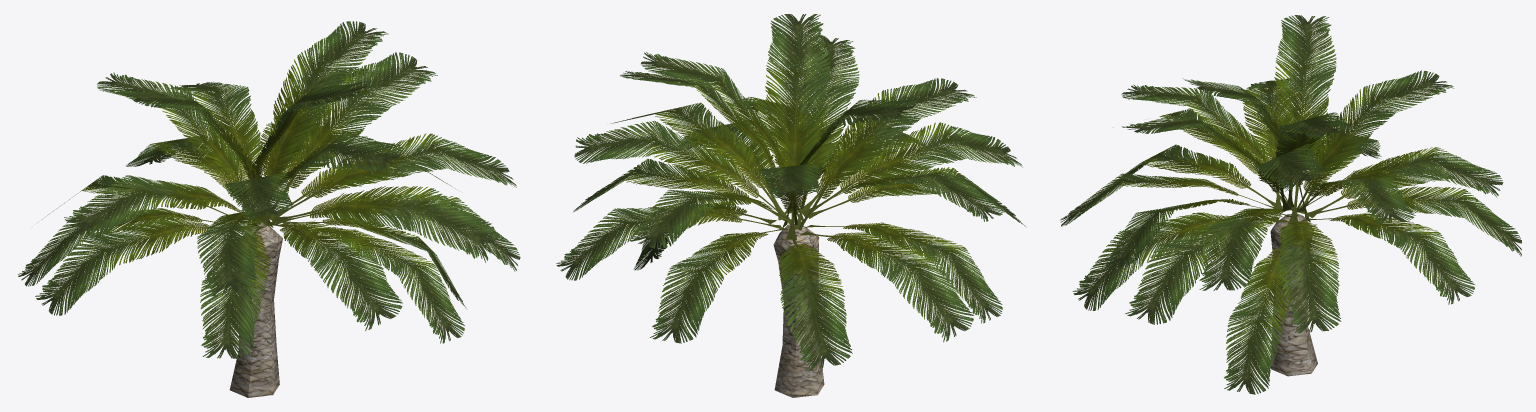
The picture shows the model from 3 angles, left to right: view 1: azimuth 30°, elevation 25°; view 2: azimuth 150°, elevation 25°; view 3: azimuth 270°, elevation 25°; orthographic projection. The views are drawn at different scales.
Parts seen in each view (by area): view 1: Mesh Object; view 2: Mesh Object; view 3: Mesh Object.
Boxes of the visible parts, bbox=[...] form: Mesh Object: bbox=[18, 21, 520, 397]; Mesh Object: bbox=[556, 14, 1026, 397]; Mesh Object: bbox=[1060, 15, 1521, 394].
Size of the model in its own units: 23.79 by 17.02 by 23.26.
